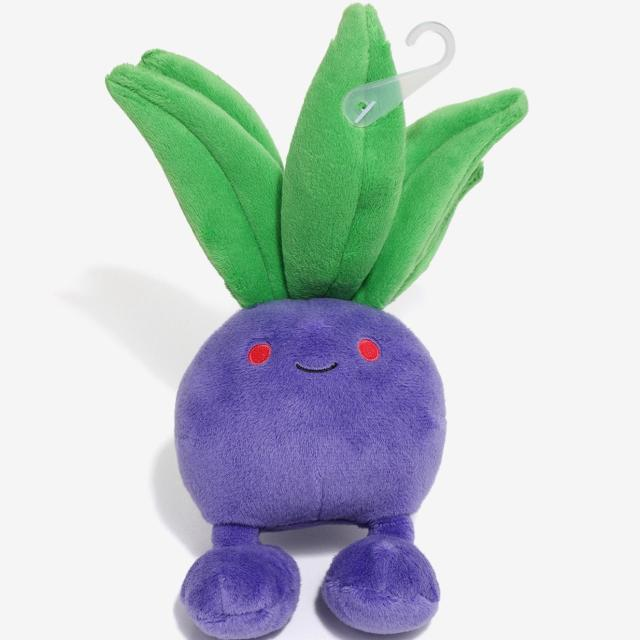Oddish: (177, 103, 453, 640)
